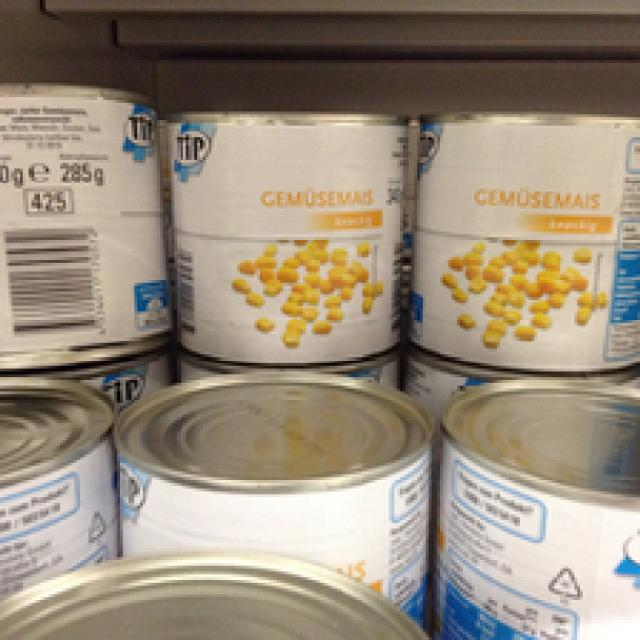groceries: (165, 103, 408, 363), (406, 108, 637, 363), (0, 80, 169, 363)
